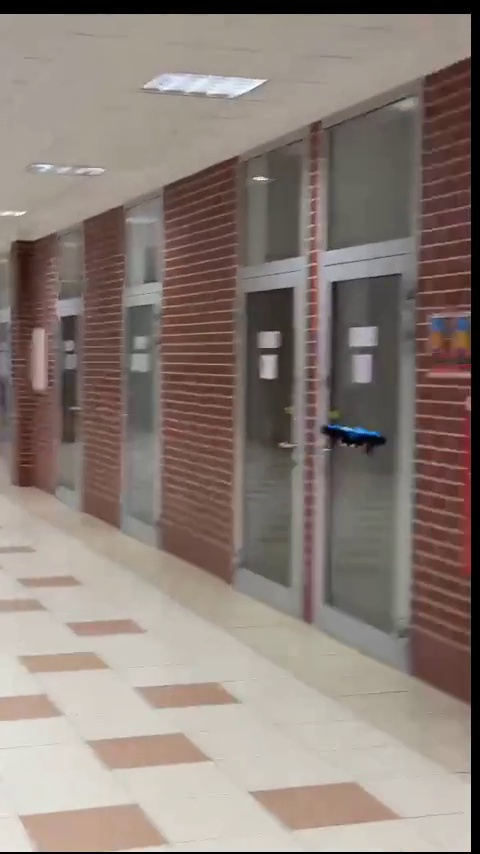drone: (327, 424, 385, 448)
